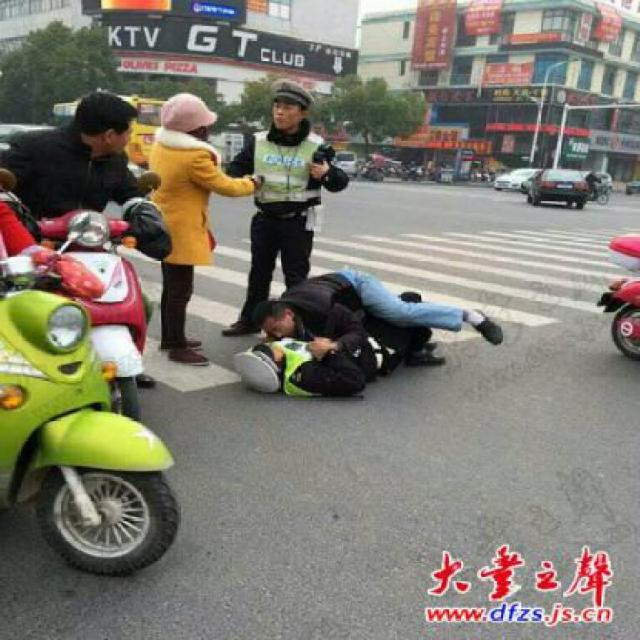fall: (222, 256, 489, 393)
